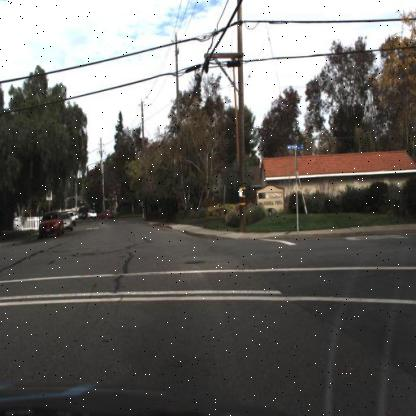car: (36, 212, 63, 238), (61, 209, 74, 235)
